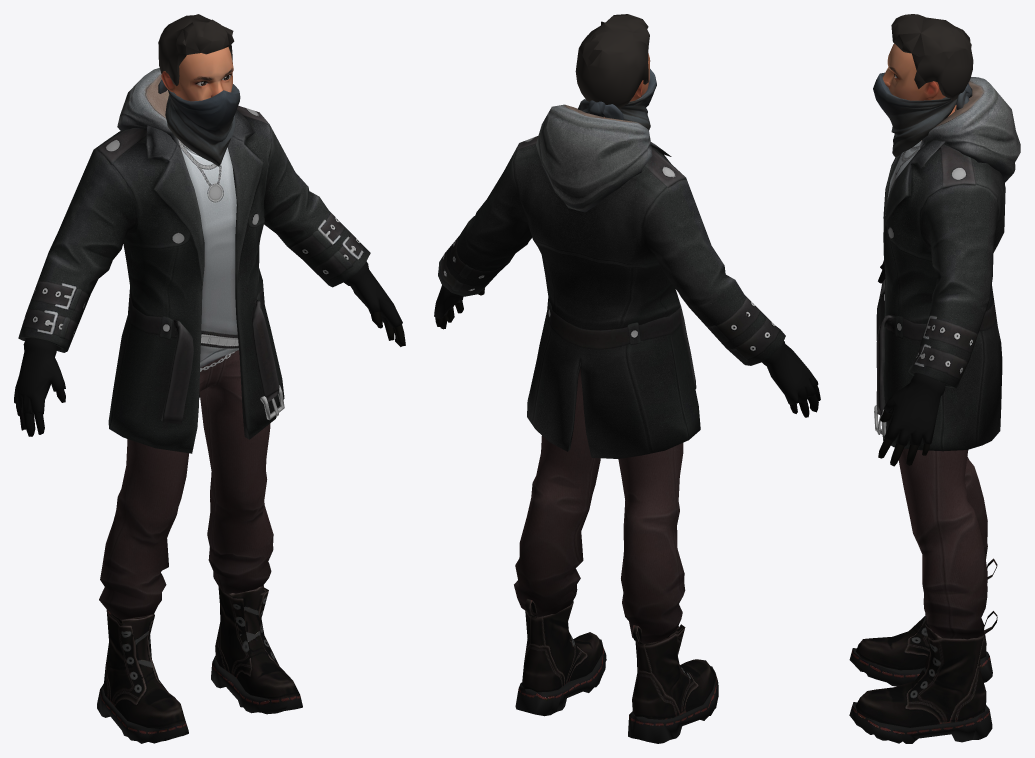
The model's file is Main-Character.fbx.
3 views of the same model, side by side, from view 1: azimuth 30°, elevation 25°; view 2: azimuth 150°, elevation 25°; view 3: azimuth 270°, elevation 25° (orthographic).
Visible parts, largest first — view 1: Main_Character; view 2: Main_Character; view 3: Main_Character.
Boxes of the visible parts, <box> form: Main_Character: <box>14,14,405,743</box>; Main_Character: <box>434,14,820,743</box>; Main_Character: <box>849,14,1020,743</box>.
Size of the model in its own units: 43.79 by 76.77 by 17.35.
7 materials, 7 textured.
